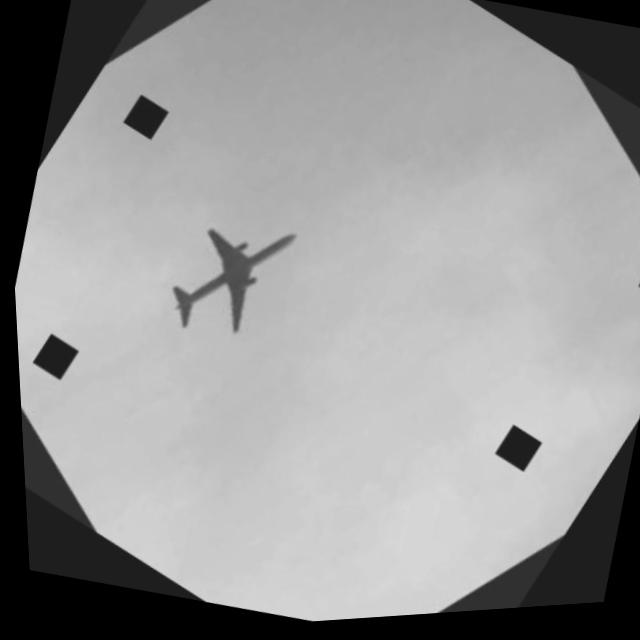aeroplane: (137, 179, 313, 373)
